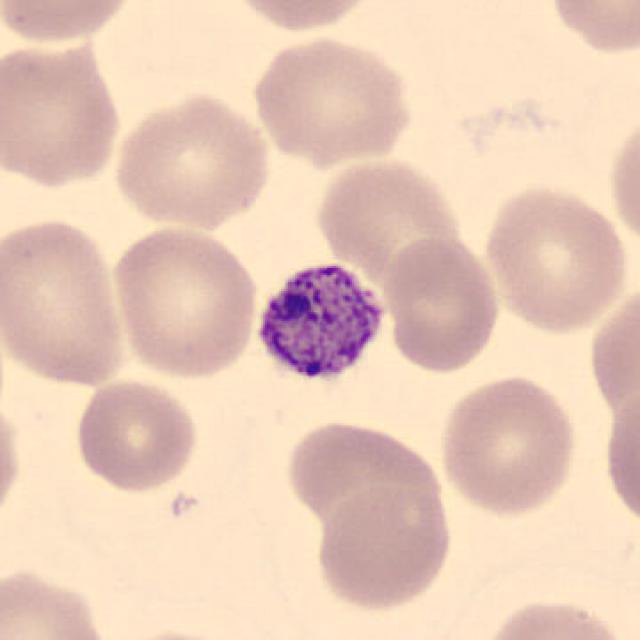Platelets: (247, 251, 393, 398)
RBC: (107, 222, 261, 383), (108, 86, 276, 231), (478, 180, 631, 335), (0, 213, 132, 390), (249, 31, 416, 168), (436, 371, 582, 518), (311, 152, 466, 286), (281, 414, 448, 534), (0, 32, 126, 190), (311, 482, 457, 614), (381, 234, 503, 376), (71, 374, 203, 495), (0, 564, 114, 640), (474, 594, 634, 640), (0, 0, 140, 47), (599, 379, 640, 534), (220, 0, 383, 35), (542, 0, 638, 58), (606, 111, 640, 254), (0, 388, 25, 531), (98, 626, 258, 640)
